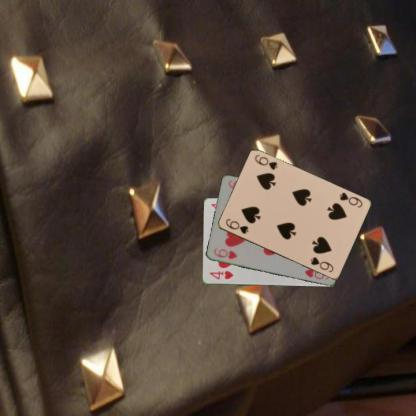4h: (206, 269, 234, 280)
6h: (211, 245, 238, 260)
6s: (336, 190, 364, 210), (222, 216, 250, 235)
